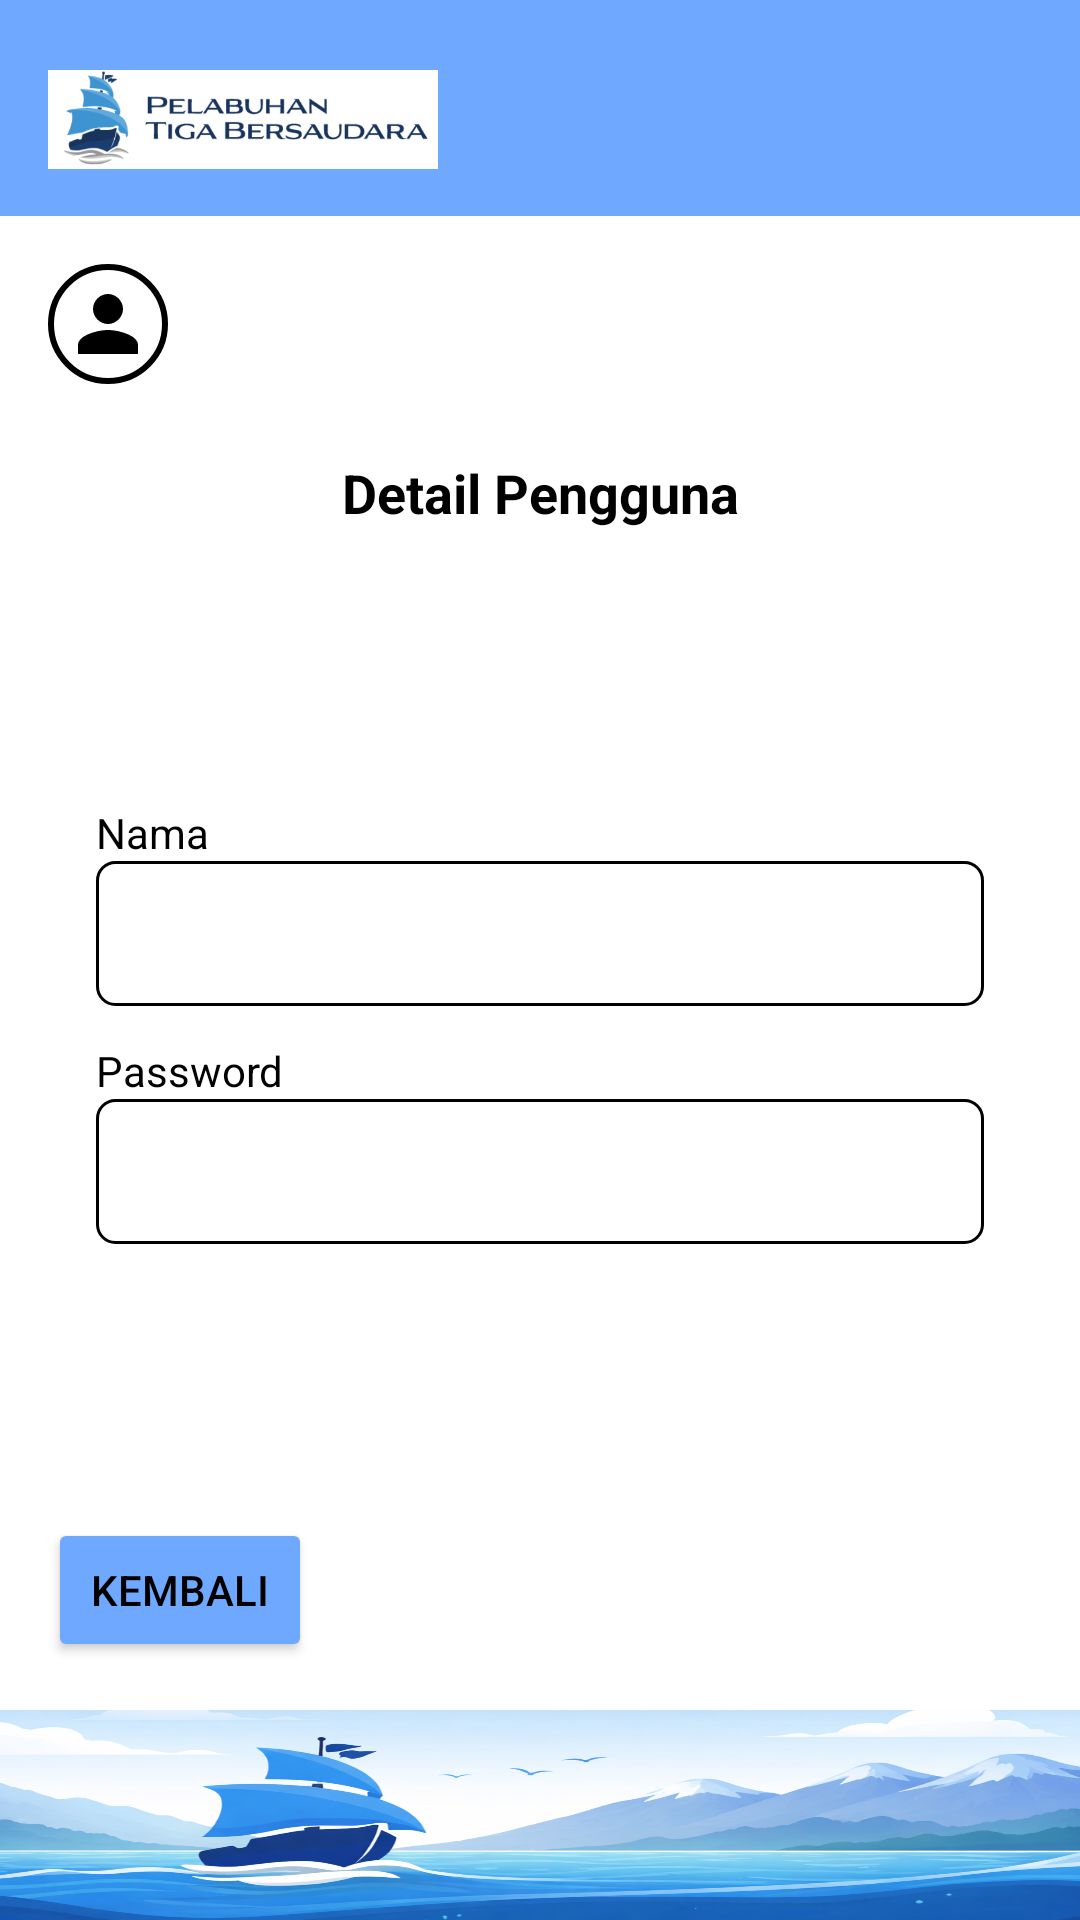

Where icons sit on this 1080×1920 app screen, as (x1, y1, x2, y2):
profile: (48, 264, 168, 384)
